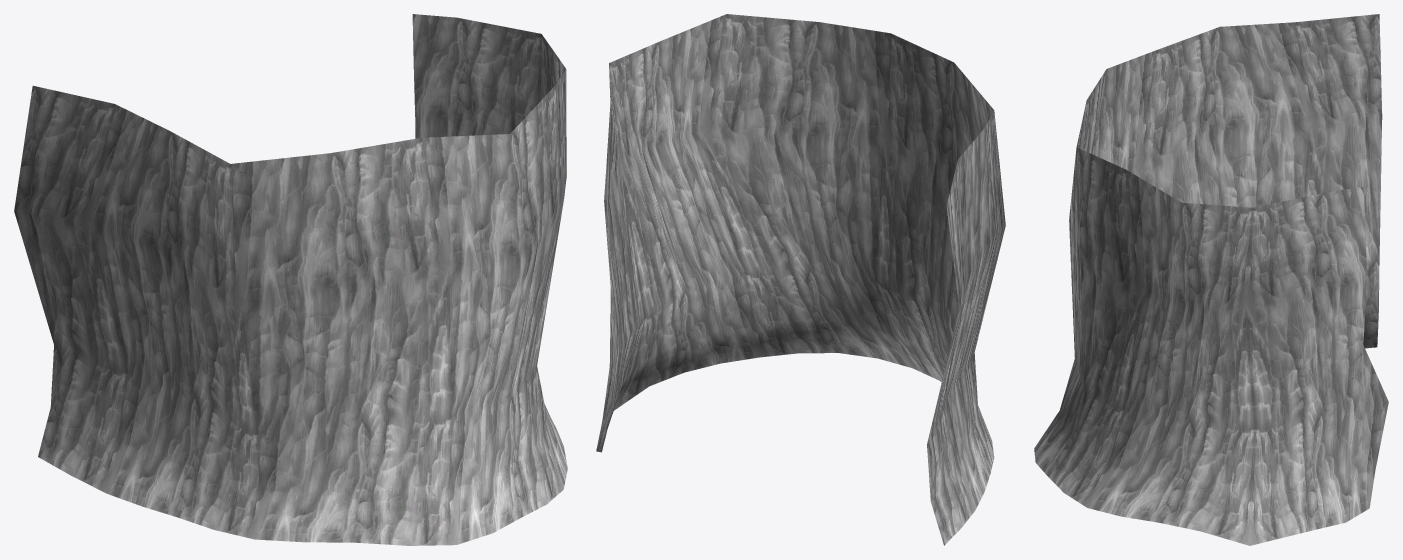
The model's file is SWORDLIGHT20_PS-AREA03_55.fbx.
The picture shows the model from 3 angles, left to right: view 1: azimuth 30°, elevation 25°; view 2: azimuth 150°, elevation 25°; view 3: azimuth 270°, elevation 25°; orthographic projection. The views are drawn at different scales.
Visible parts, largest first — view 1: SWORDLIGHT20_PS-AREA03_55; view 2: SWORDLIGHT20_PS-AREA03_55; view 3: SWORDLIGHT20_PS-AREA03_55.
Boxes of the visible parts, left/top/right/bottom form: SWORDLIGHT20_PS-AREA03_55: left=14, top=14, right=567, bottom=545; SWORDLIGHT20_PS-AREA03_55: left=596, top=14, right=1005, bottom=545; SWORDLIGHT20_PS-AREA03_55: left=1034, top=14, right=1388, bottom=545.
Size of the model in its own units: 170035 by 141428 by 128531.
Materials: 1 (1 with a texture image).
